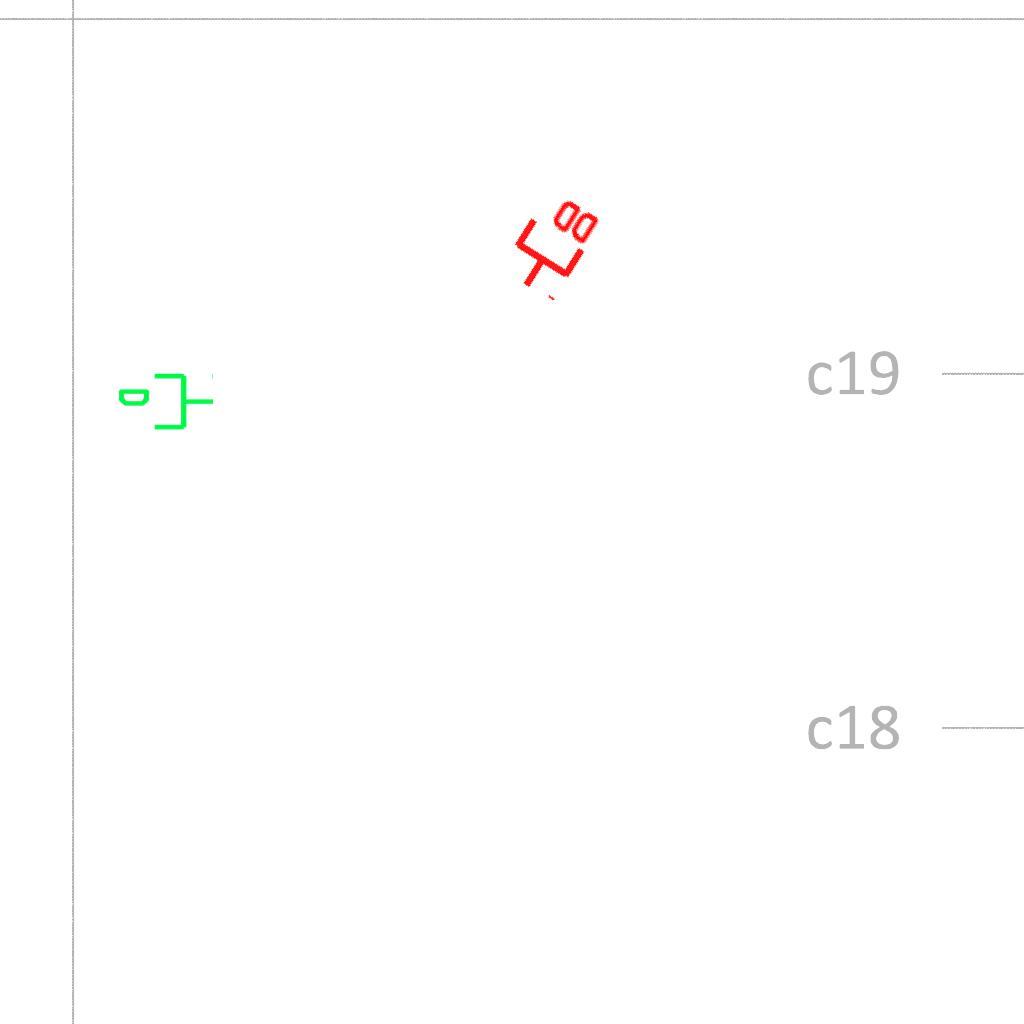Datenanschluss_einfach: (116, 369, 216, 438)
Datenanschluss_zweifach: (493, 181, 608, 306)
